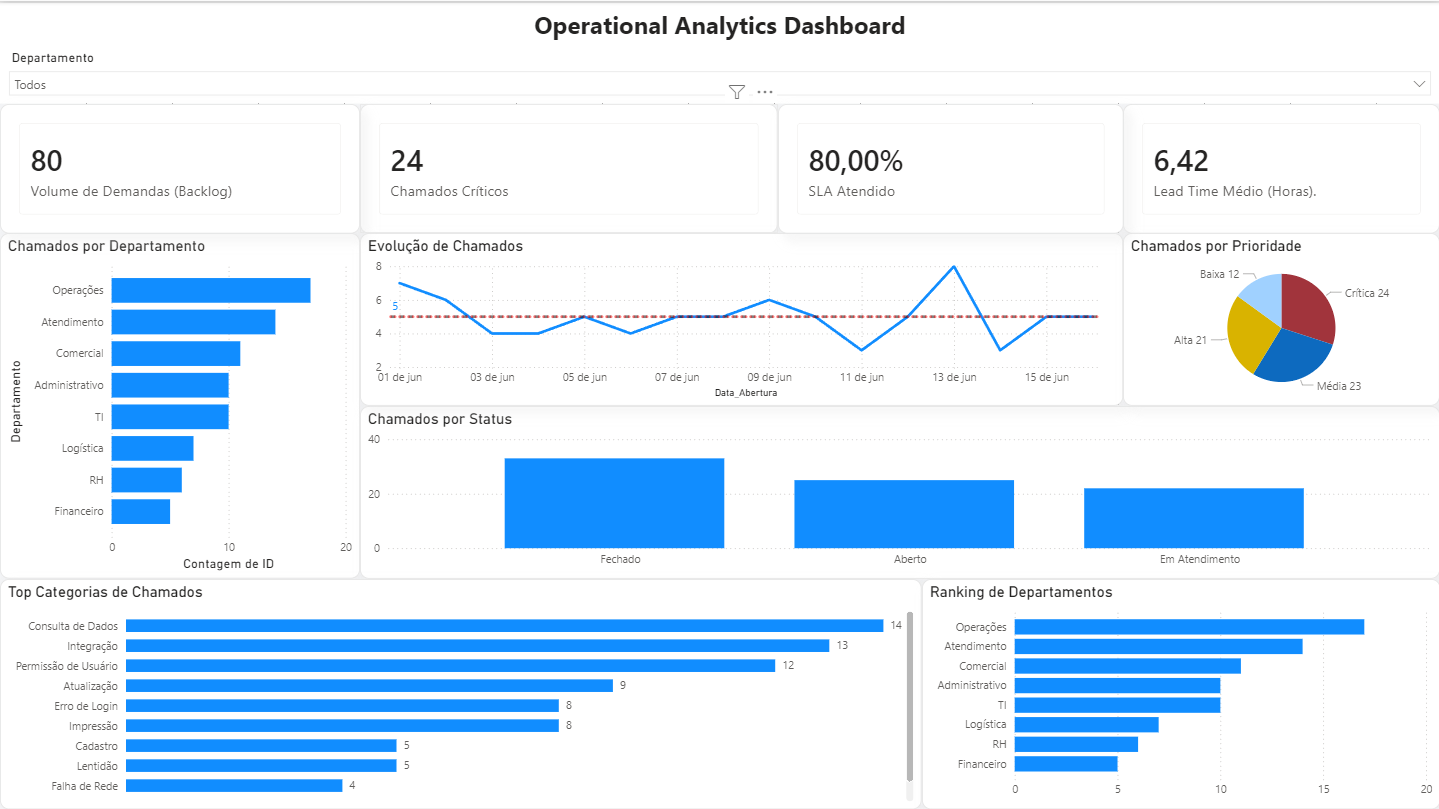

What the dashboard file says about the page in this screenshot:
{"tool":"powerbi","page":{"name":"Página 1","canvas":[1600,900],"ordinal":0},"visuals":[{"type":"clusteredBarChart","title":"Chamados por Departamento","fields":{"Category":["Chamados.Departamento"],"Y":["CountNonNull(Chamados.ID)"]},"box":[0,256,400,384],"z":0},{"type":"columnChart","title":"Chamados por Status","fields":{"Category":["Chamados.Status"],"Y":["CountNonNull(Chamados.ID)"]},"box":[400,448,1200,192],"z":1000},{"type":"cardVisual","title":"Lead Time Médio (Horas).","fields":{"Data":["Avg(Chamados.Tempo_Horas)"]},"box":[1248,112,352,144],"z":2000},{"type":"slicer","fields":{"Values":["Chamados.Departamento"]},"box":[0,48,1600,64],"z":3000},{"type":"barChart","title":"Top Categorias de Chamados","fields":{"Category":["Chamados.Categoria"],"Y":["CountNonNull(Chamados.ID)"]},"box":[0,640,1024,256],"z":4000},{"type":"cardVisual","fields":{"Data":["CountNonNull(Chamados.ID)"]},"box":[400,112,464,144],"z":5000},{"type":"lineChart","title":"Evolução de Chamados","fields":{"Y":["CountNonNull(Chamados.ID)"],"Category":["Chamados.Data_Abertura"]},"box":[400,256,848,192],"z":6000},{"type":"pieChart","title":"Chamados por Prioridade","fields":{"Category":["Chamados.Prioridade"],"Y":["CountNonNull(Chamados.ID)"]},"box":[1248,256,352,192],"z":7000},{"type":"cardVisual","fields":{"Data":["Sum(Chamados.Percentual_SLA)"]},"box":[864,112,384,144],"z":8000},{"type":"barChart","title":"Ranking de Departamentos","fields":{"Category":["Chamados.Departamento"],"Y":["CountNonNull(Chamados.ID)"]},"box":[1024,640,576,256],"z":9000},{"type":"cardVisual","title":"Volume de Demandas (Backlog)","fields":{"Data":["CountNonNull(Chamados.ID)"]},"box":[0,112,400,144],"z":10000},{"type":"textbox","box":[0,0,1600,48],"z":11000}]}

Visuals, with their boxes in screenshot pixels (x1, y1, x2, y2), scaled from the page's 1600x900 canvas onto the 1439x809 screenshot:
"Chamados por Departamento" clusteredBarChart: {"left": 0, "top": 230, "right": 360, "bottom": 575}
"Chamados por Status" columnChart: {"left": 360, "top": 403, "right": 1438, "bottom": 575}
"Lead Time Médio (Horas)." cardVisual: {"left": 1122, "top": 101, "right": 1438, "bottom": 230}
slicer - Chamados.Departamento: {"left": 0, "top": 43, "right": 1438, "bottom": 101}
"Top Categorias de Chamados" barChart: {"left": 0, "top": 575, "right": 921, "bottom": 805}
cardVisual - CountNonNull(Chamados.ID): {"left": 360, "top": 101, "right": 777, "bottom": 230}
"Evolução de Chamados" lineChart: {"left": 360, "top": 230, "right": 1122, "bottom": 403}
"Chamados por Prioridade" pieChart: {"left": 1122, "top": 230, "right": 1438, "bottom": 403}
cardVisual - Sum(Chamados.Percentual_SLA): {"left": 777, "top": 101, "right": 1122, "bottom": 230}
"Ranking de Departamentos" barChart: {"left": 921, "top": 575, "right": 1438, "bottom": 805}
"Volume de Demandas (Backlog)" cardVisual: {"left": 0, "top": 101, "right": 360, "bottom": 230}
textbox: {"left": 0, "top": 0, "right": 1438, "bottom": 43}
